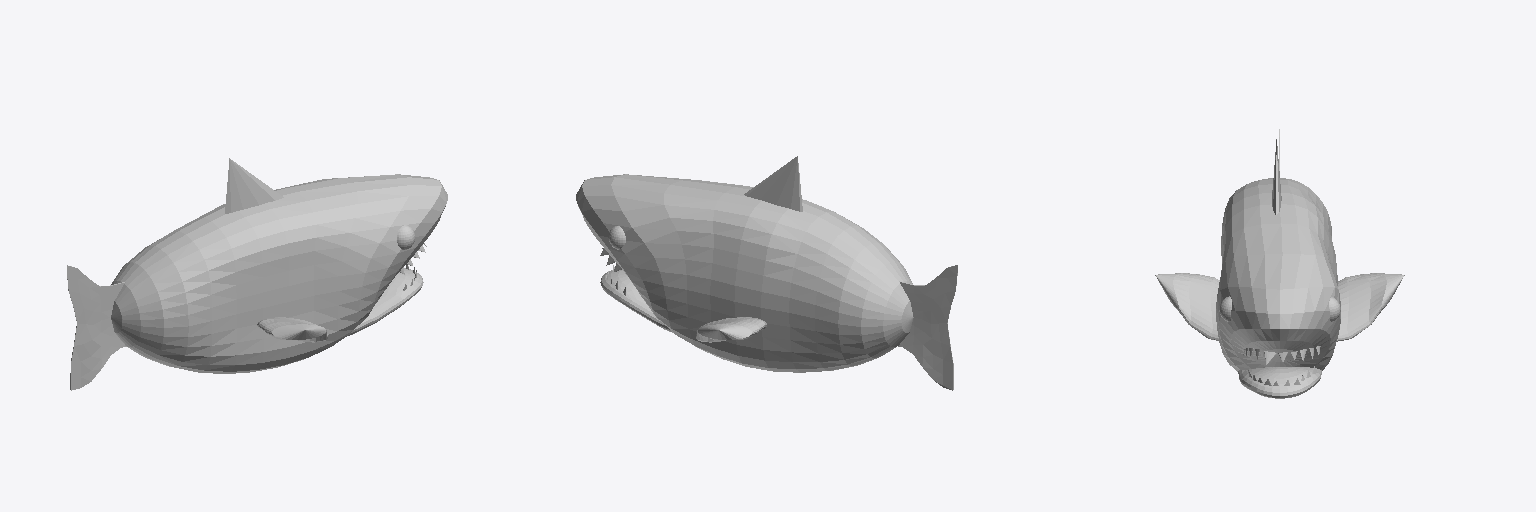
The model's file is Requin.obj.
3 renders of one model, left to right at view 1: azimuth 30°, elevation 25°; view 2: azimuth 150°, elevation 25°; view 3: azimuth 270°, elevation 25°, orthographic.
Visible parts, largest first — view 1: Cube; view 2: Cube; view 3: Cube.
Boxes of the visible parts, <box> form: Cube: <box>67,158,447,390</box>; Cube: <box>576,156,957,390</box>; Cube: <box>1155,129,1404,398</box>.
Bounding box in the file's own units: 16.53 × 8.84 × 9.44.